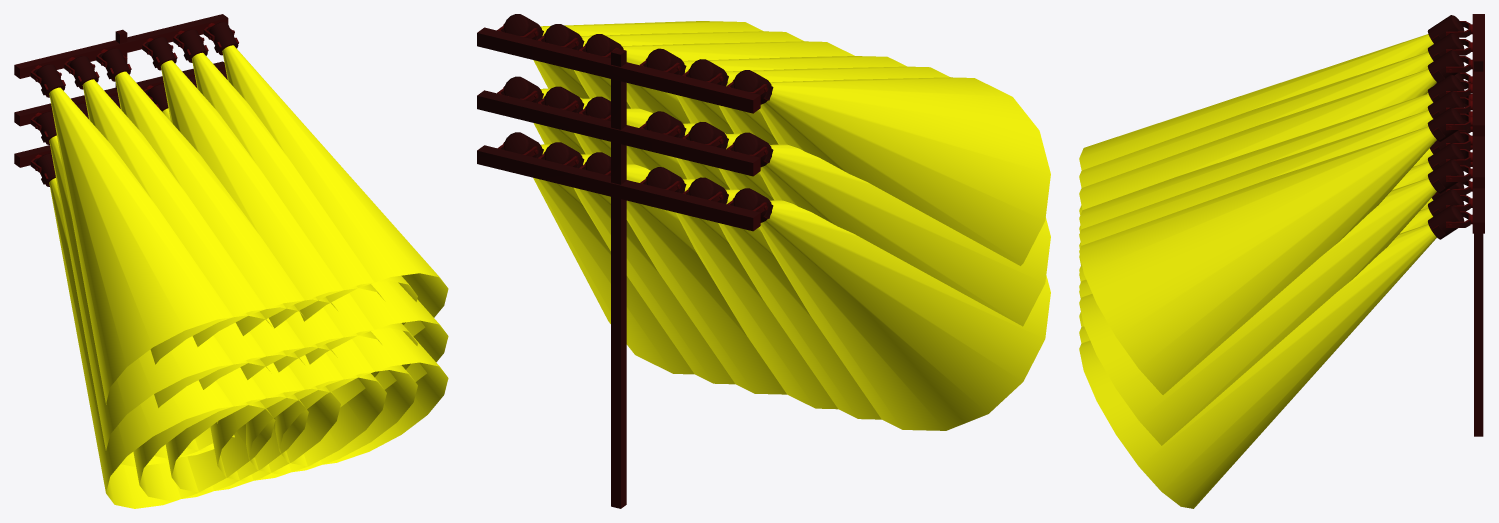
Rendered from StadiumLights.glb.
3 views of the same model, side by side, from view 1: azimuth 30°, elevation 25°; view 2: azimuth 150°, elevation 25°; view 3: azimuth 270°, elevation 25° (orthographic). The views are drawn at different scales.
Parts seen in each view (by area): view 1: StadiumLights; view 2: StadiumLights; view 3: StadiumLights.
Boxes of the visible parts, left/top/right/bottom form: StadiumLights: left=14, top=14, right=448, bottom=508; StadiumLights: left=477, top=14, right=1050, bottom=508; StadiumLights: left=1079, top=14, right=1484, bottom=508.
Size of the model in its own units: 39.91 by 40.91 by 38.35.
